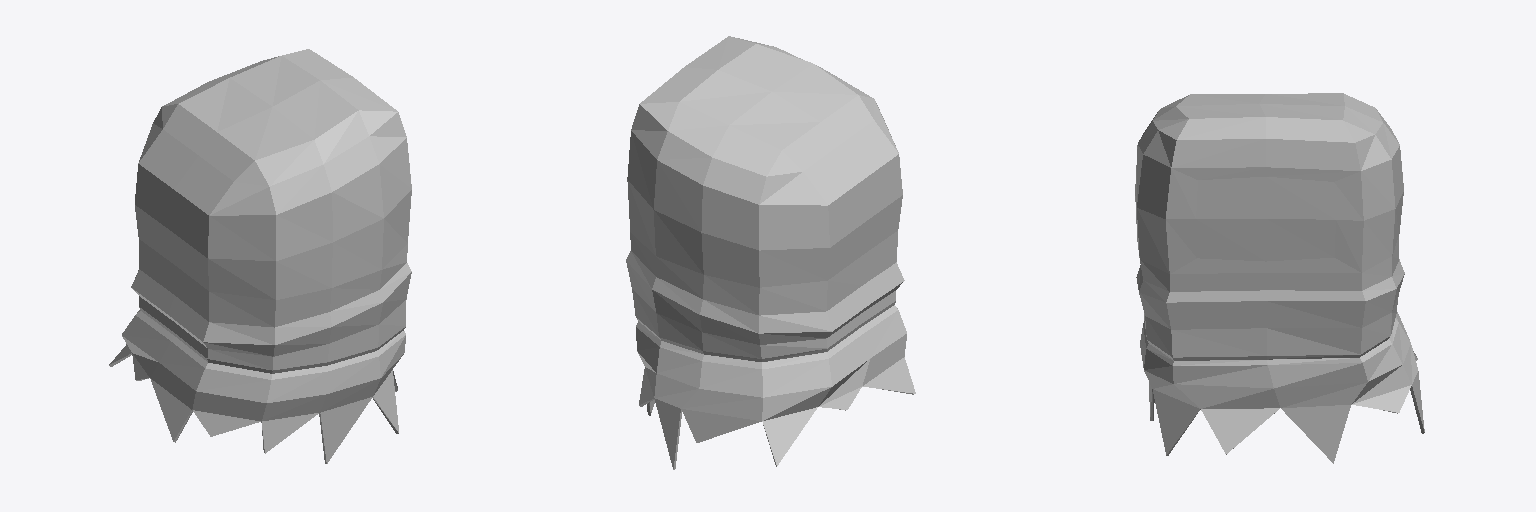
Rendered from sleeve R.obj.
The picture shows the model from 3 angles: view 1: azimuth 30°, elevation 25°; view 2: azimuth 150°, elevation 25°; view 3: azimuth 270°, elevation 25°; orthographic projection.
Visible parts, largest first — view 1: sleeve_R; view 2: sleeve_R; view 3: sleeve_R.
Boxes of the visible parts, <box> form: sleeve_R: <box>109,49,411,463</box>; sleeve_R: <box>626,36,915,469</box>; sleeve_R: <box>1135,93,1424,463</box>.
Size of the model in its own units: 0.8142 by 1.13 by 0.8853.